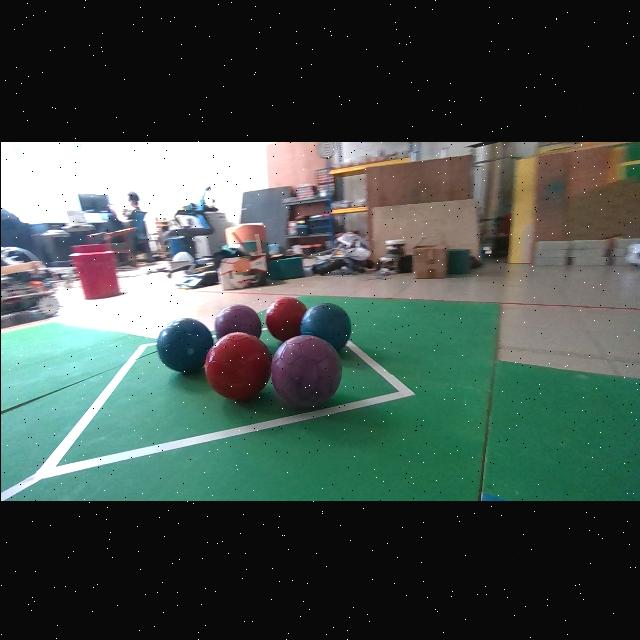B: (156, 317, 212, 372), (299, 302, 350, 348)
P: (271, 333, 341, 406), (213, 303, 261, 337)
R: (203, 331, 271, 398), (264, 295, 305, 340)
